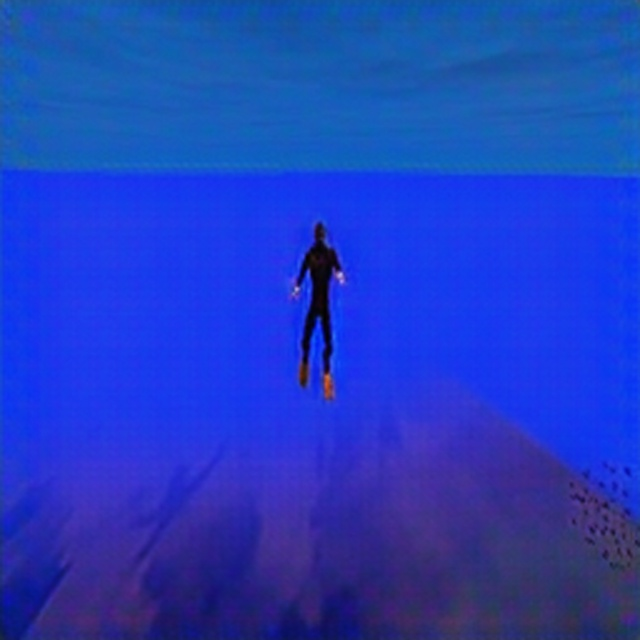diver: (289, 218, 346, 399)
